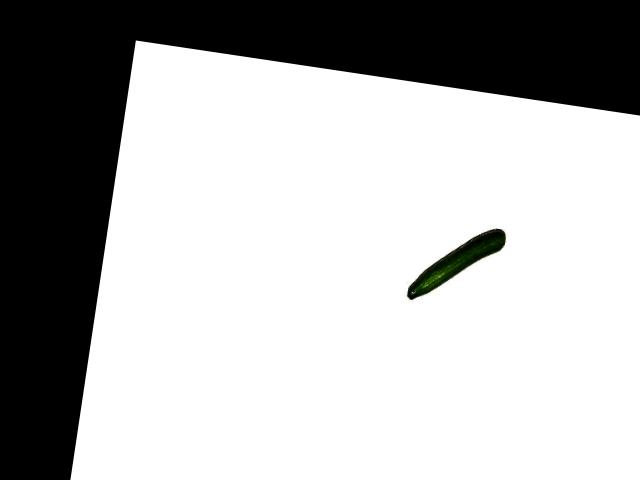cucumber: (406, 217, 507, 311)
